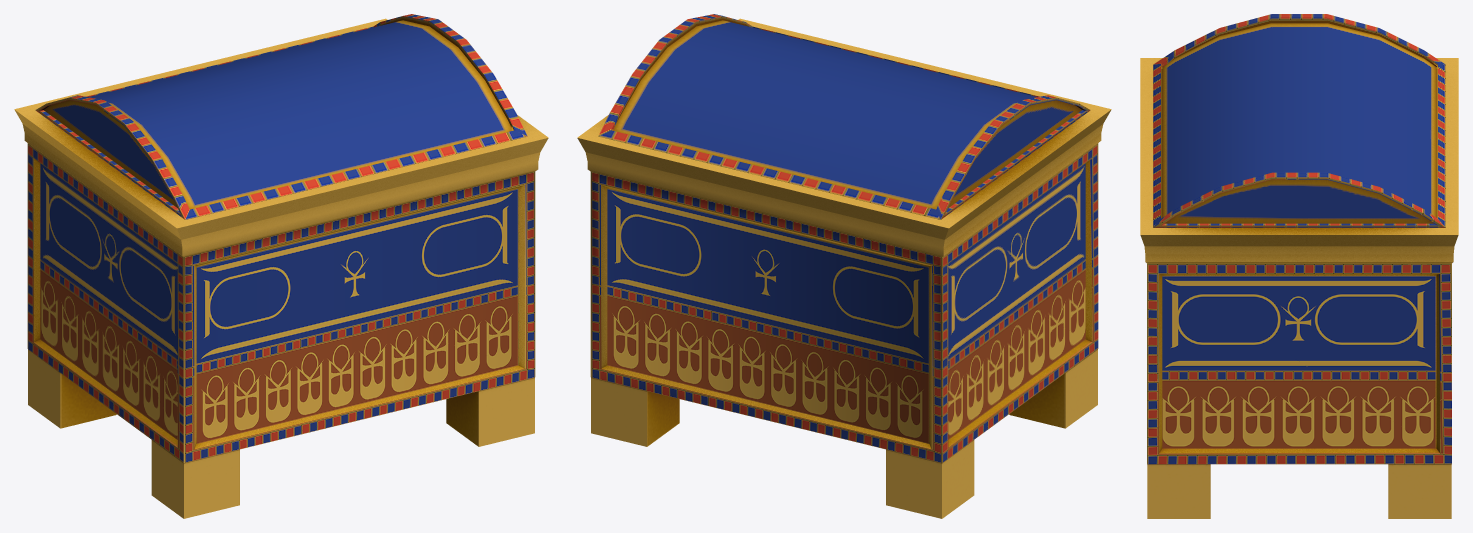
File: Chest.fbx
3 renders of one model, left to right at view 1: azimuth 30°, elevation 25°; view 2: azimuth 150°, elevation 25°; view 3: azimuth 270°, elevation 25°, orthographic. The views are drawn at different scales.
Parts seen in each view (by area): view 1: Chest, Lid; view 2: Chest, Lid; view 3: Chest, Lid.
Boxes of the visible parts, x1,y1,x2,y2 form: Chest: (22, 124, 540, 518); Lid: (14, 14, 548, 239); Chest: (585, 124, 1103, 518); Lid: (577, 14, 1111, 239); Chest: (1144, 246, 1454, 518); Lid: (1140, 14, 1458, 246).
Bounding box in the file's own units: 1.35 × 1.2 × 1.02.
